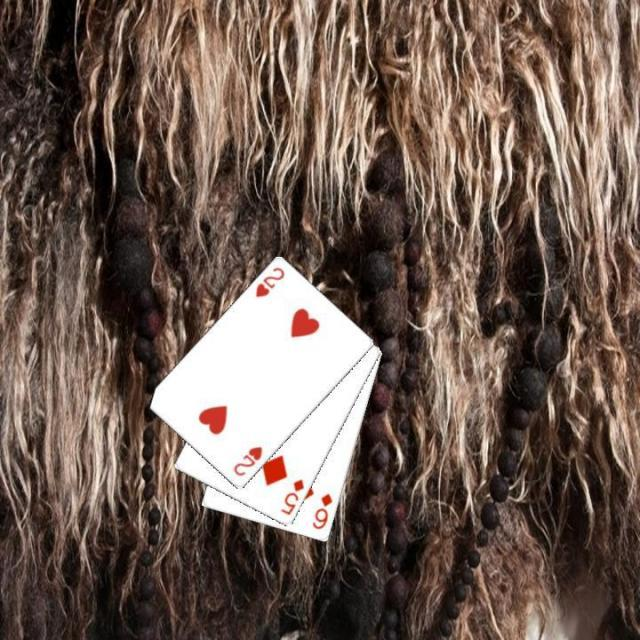2H: (229, 443, 264, 478), (252, 264, 286, 300)
5D: (277, 476, 306, 518)
6D: (308, 489, 334, 532)
